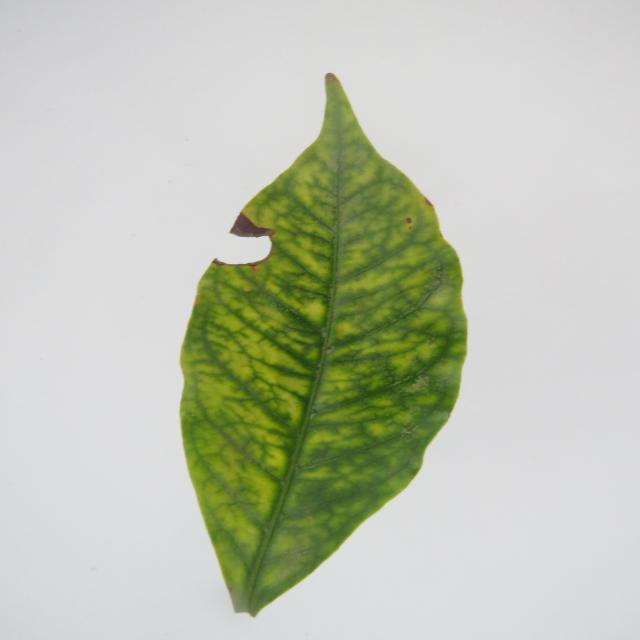DeficienciaNutricional-Manganeso: (180, 74, 467, 615)
